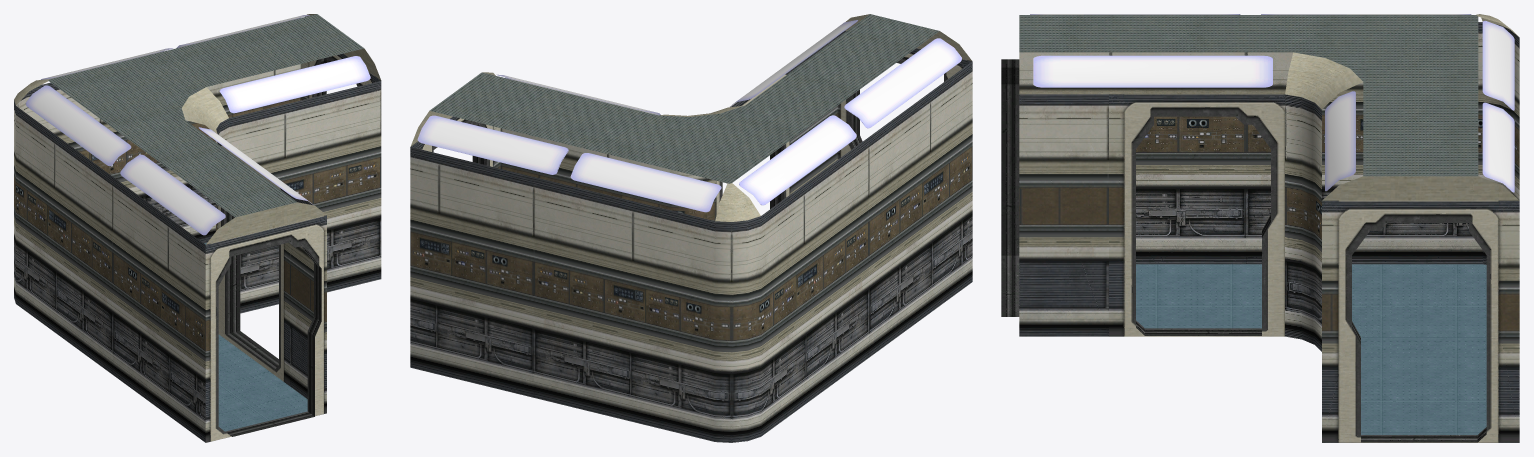
The model's file is sorosuub_space_yacht_r7_hallway_mesh_r7.fbx.
The picture shows the model from 3 angles, left to right: view 1: azimuth 30°, elevation 25°; view 2: azimuth 150°, elevation 25°; view 3: azimuth 270°, elevation 25°; orthographic projection. The views are drawn at different scales.
Parts seen in each view (by area): view 1: mesh_node; view 2: mesh_node; view 3: mesh_node.
Boxes of the visible parts, left/top/right/bottom form: mesh_node: left=14, top=14, right=381, bottom=442; mesh_node: left=410, top=14, right=972, bottom=442; mesh_node: left=1001, top=14, right=1519, bottom=442.
Bounding box in the file's own units: 4.9 × 3.27 × 5.77.
